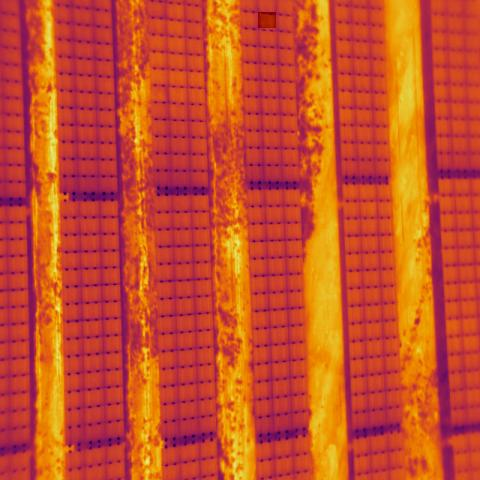fault: (258, 12, 276, 28)
